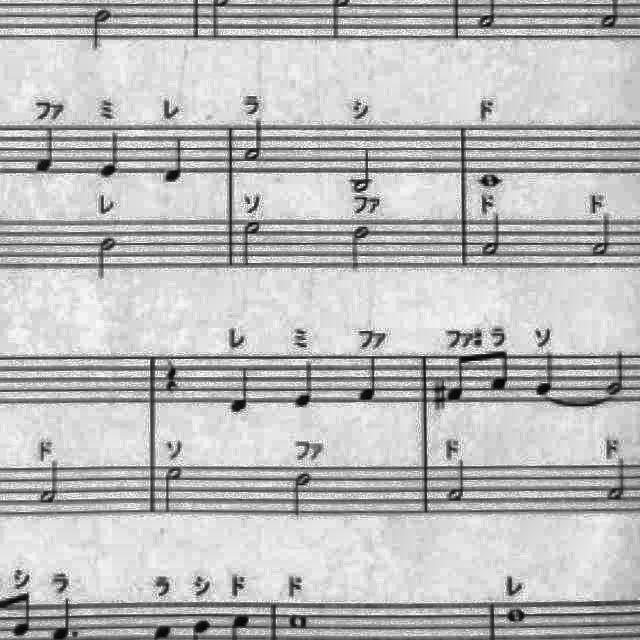Diez: (431, 377, 449, 413)
Eighth-note: (444, 350, 472, 404), (486, 347, 514, 395)
Full-note: (283, 608, 313, 634), (474, 169, 506, 191), (503, 604, 531, 628)
Half-note: (158, 460, 188, 518), (602, 454, 634, 504), (288, 468, 316, 524), (238, 216, 266, 272), (347, 145, 378, 195), (37, 461, 67, 511), (94, 234, 122, 286), (89, 5, 117, 56), (480, 211, 508, 261), (442, 459, 470, 509), (348, 222, 374, 274), (588, 213, 616, 261), (603, 346, 629, 396), (241, 116, 267, 164)
Quarter-note: (226, 361, 258, 417), (95, 128, 125, 184), (30, 120, 60, 176), (289, 356, 319, 412), (160, 134, 190, 188), (353, 350, 383, 402), (530, 350, 562, 398)
Quarter-rest: (159, 356, 185, 398)
